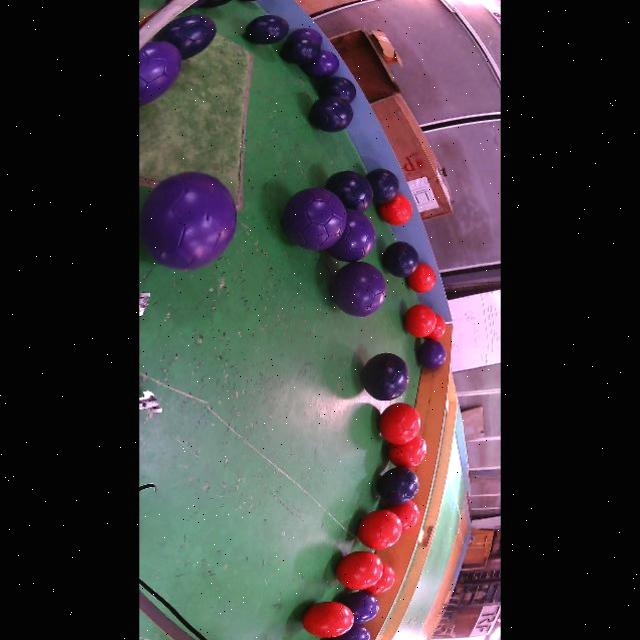B: (154, 14, 214, 60), (360, 353, 408, 401), (324, 170, 371, 212), (376, 466, 418, 505), (307, 96, 351, 133), (243, 14, 287, 45), (381, 242, 417, 277), (278, 36, 318, 65), (365, 169, 398, 203), (318, 77, 355, 104), (198, 0, 230, 8), (237, 0, 256, 2)
P: (139, 172, 234, 270), (281, 188, 345, 251), (330, 262, 385, 317), (137, 41, 180, 106), (327, 209, 374, 262), (339, 592, 378, 623), (301, 50, 337, 77), (417, 340, 446, 369), (327, 624, 369, 640), (287, 28, 321, 46), (188, 0, 206, 8)
R: (335, 551, 383, 590), (356, 510, 402, 550), (301, 602, 352, 638), (378, 403, 419, 445), (386, 436, 425, 468), (378, 194, 412, 226), (403, 305, 435, 338), (384, 500, 418, 531), (364, 564, 395, 594), (406, 263, 434, 294), (424, 314, 444, 340)
